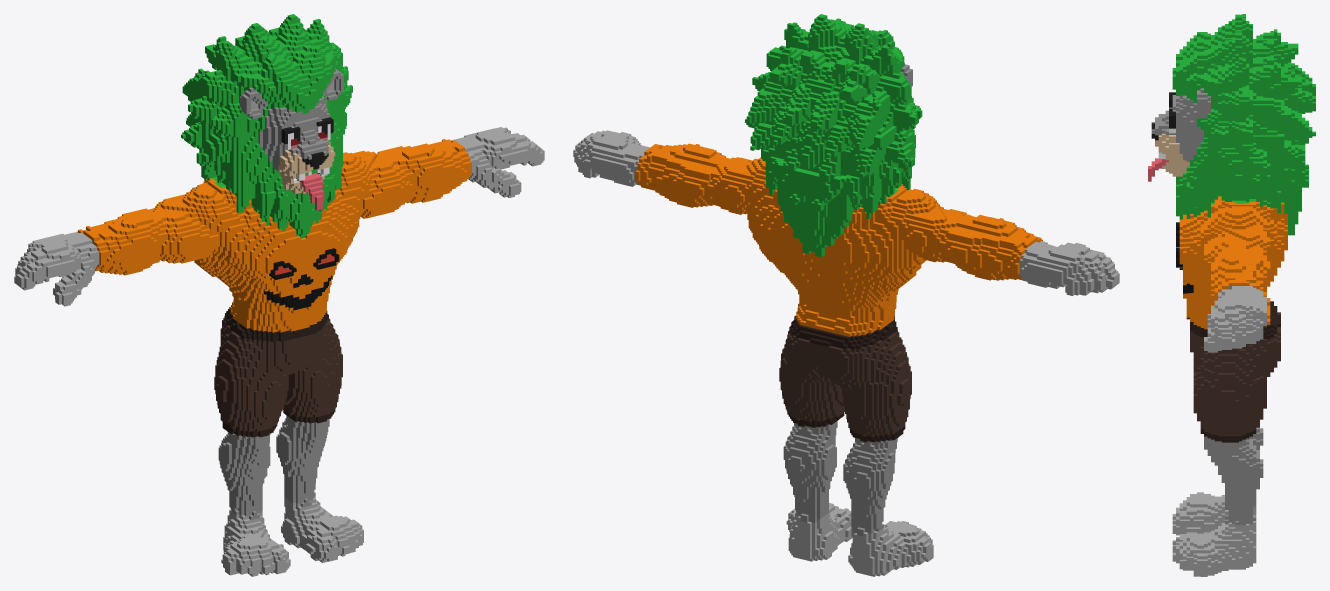
The model's file is 853-CyzG1n83.glb.
3 renders of one model, left to right at view 1: azimuth 30°, elevation 25°; view 2: azimuth 150°, elevation 25°; view 3: azimuth 270°, elevation 25°, orthographic. The views are drawn at different scales.
Visible parts, largest first — view 1: tongue_out; view 2: tongue_out; view 3: tongue_out.
Part boxes in pixels (x1,y1,x2,y2): tongue_out: [14, 14, 544, 576]; tongue_out: [573, 14, 1119, 576]; tongue_out: [1148, 14, 1315, 576].
Bounding box in the file's own units: 17.2 × 16.5 × 4.8.
5 materials, 5 textured.
